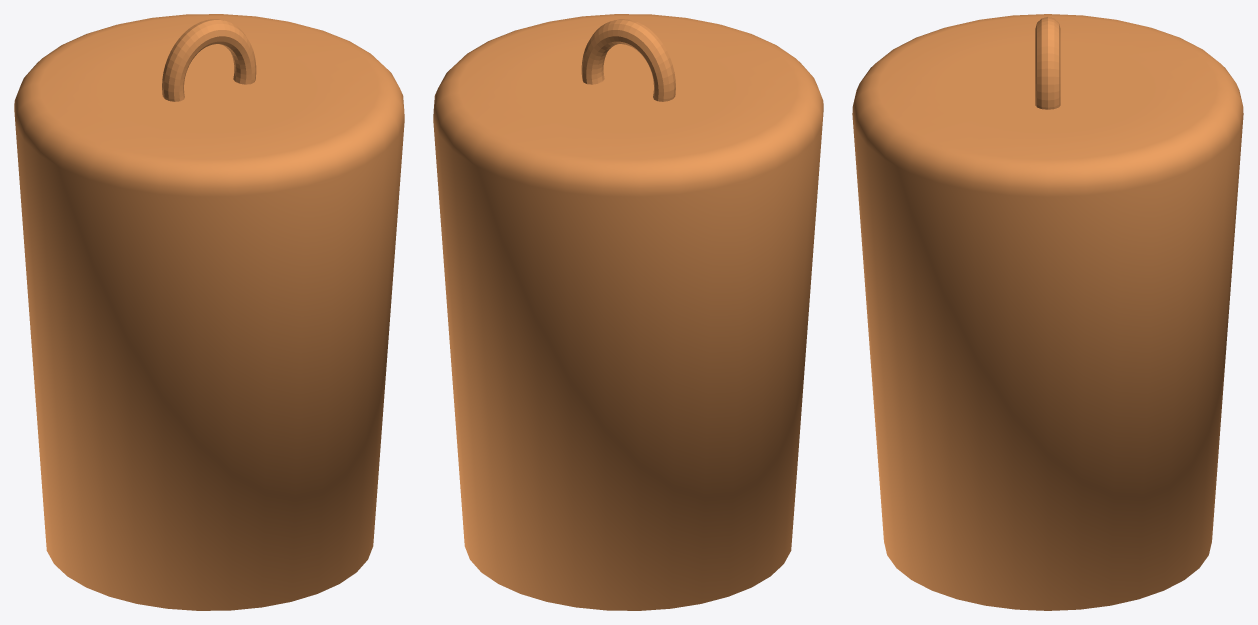
The model's file is Cork05.fbx.
3 views of the same model, side by side, from view 1: azimuth 30°, elevation 25°; view 2: azimuth 150°, elevation 25°; view 3: azimuth 270°, elevation 25° (orthographic).
Parts seen in each view (by area): view 1: Cork05; view 2: Cork05; view 3: Cork05.
Boxes of the visible parts, x1,y1,x2,y2 form: Cork05: (14, 14, 404, 610); Cork05: (433, 14, 823, 610); Cork05: (852, 14, 1243, 610).
Size of the model in its own units: 159 by 234 by 159.
